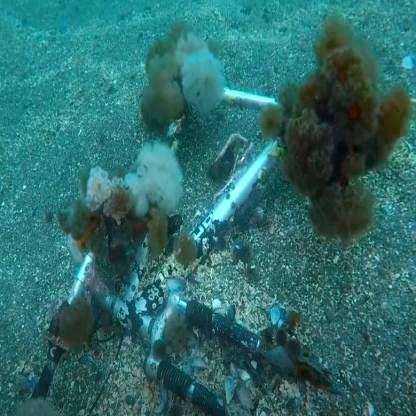electronics: (93, 229, 247, 375)
